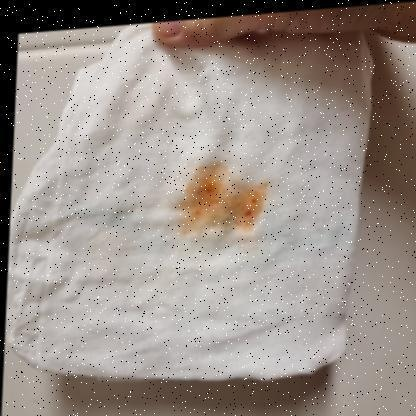kimchi: (179, 158, 268, 242)
